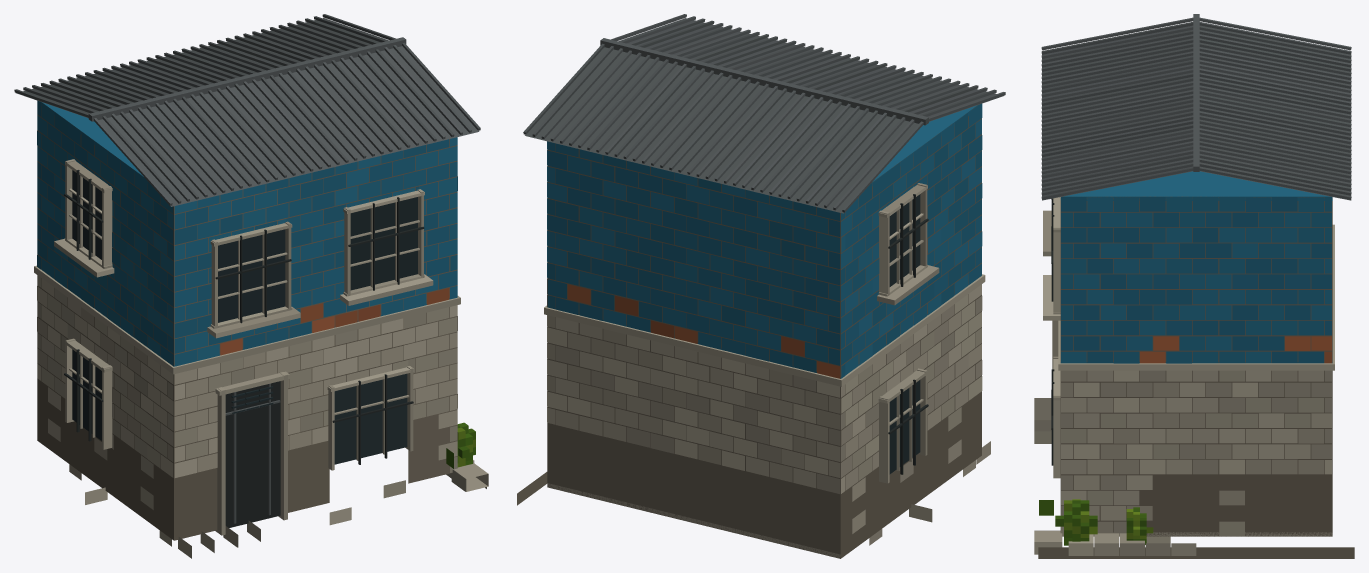
The model's file is SM_StreetFrontage_110.fbx.
3 renders of one model, left to right at view 1: azimuth 30°, elevation 25°; view 2: azimuth 150°, elevation 25°; view 3: azimuth 270°, elevation 25°, orthographic. The views are drawn at different scales.
Visible parts, largest first — view 1: SM_StreetFrontage_110; view 2: SM_StreetFrontage_110; view 3: SM_StreetFrontage_110.
Boxes of the visible parts, <box> form: SM_StreetFrontage_110: <box>14,14,488,558</box>; SM_StreetFrontage_110: <box>517,14,1005,558</box>; SM_StreetFrontage_110: <box>1034,14,1354,558</box>.
Size of the model in its own units: 8 by 6.8 by 9.16.
